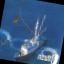fishing boat: (11, 7, 52, 64)
